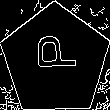P_W: (31, 41, 80, 80)
